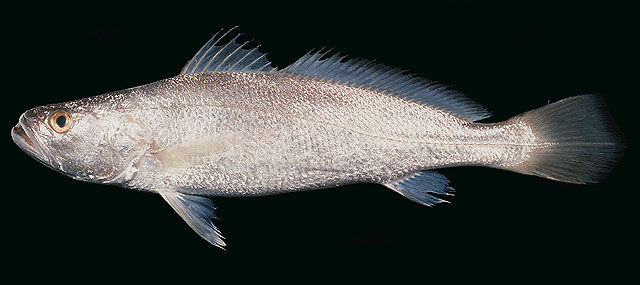fish: (11, 25, 618, 251)
